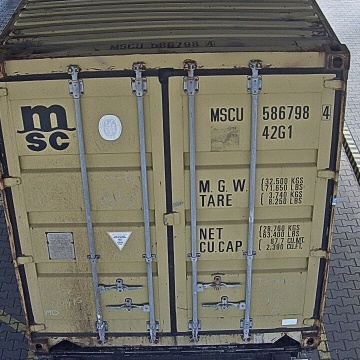serial_id: (211, 104, 331, 120)
